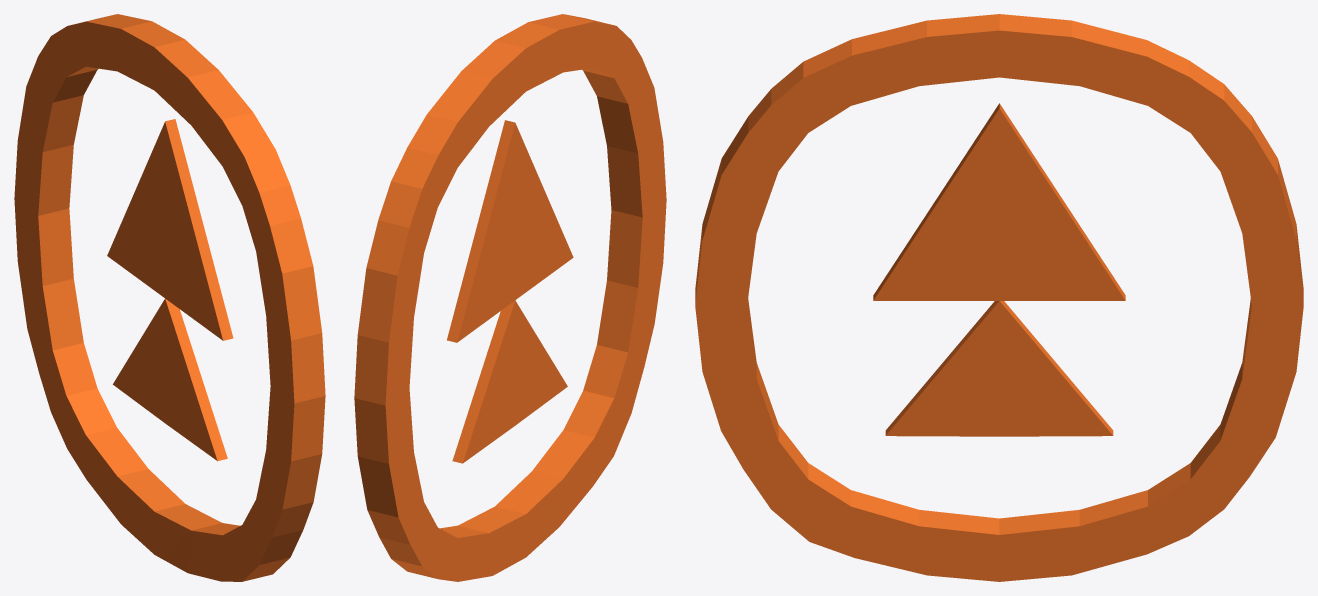
Rendered from SpeedUpRing.fbx.
3 views of the same model, side by side, from view 1: azimuth 30°, elevation 25°; view 2: azimuth 150°, elevation 25°; view 3: azimuth 270°, elevation 25° (orthographic). The views are drawn at different scales.
Parts seen in each view (by area): view 1: Cube; view 2: Cube; view 3: Cube.
Boxes of the visible parts, bbox=[...] form: Cube: bbox=[14, 14, 325, 581]; Cube: bbox=[354, 14, 666, 581]; Cube: bbox=[695, 14, 1303, 581].
Bounding box in the file's own units: 50.08 × 780 × 780.
Materials: 1 (1 with a texture image).
